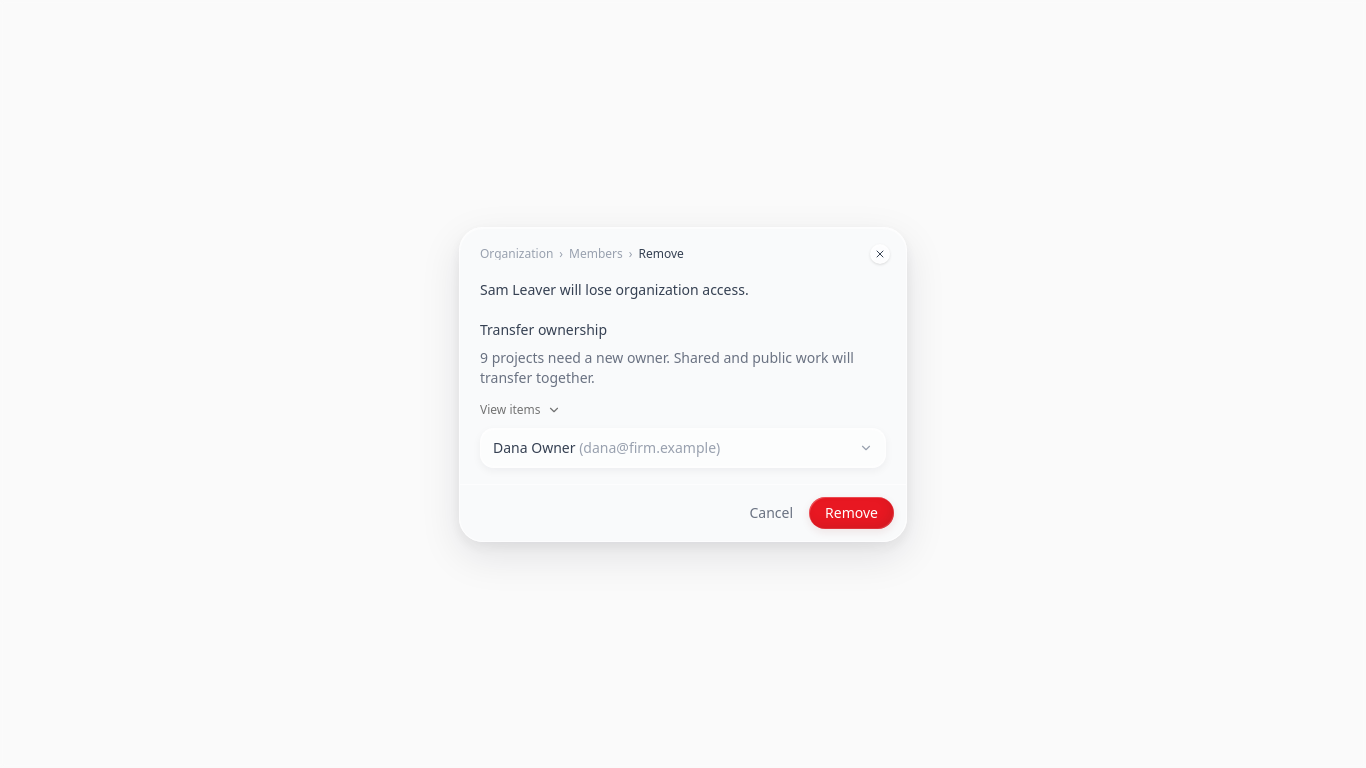
Test case: a member who alone owns projects and workflows › keeps multiple items collapsed and lets the user inspect the entire list
Check: the text "9 projects need a new owner. Shared and public work will transfer together." is shown, box left=480, top=348, right=886, bottom=388
Check: the text "Matter 1" is not shown
Click the heading "View items": (520, 410) left=480, top=402, right=560, bottom=418
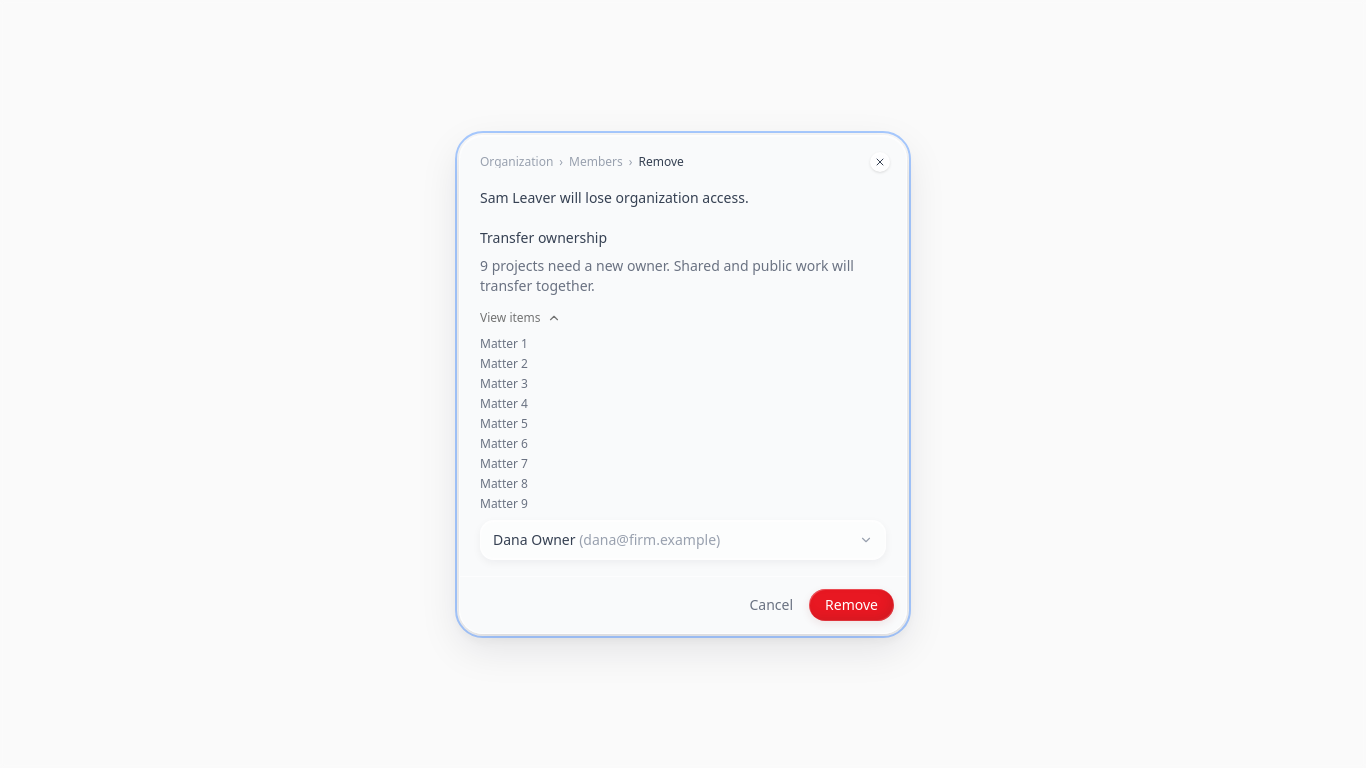
Check: the list item "Matter 1" is shown, box left=480, top=334, right=528, bottom=352
Check: the list item "Matter 9" is shown, box left=480, top=494, right=528, bottom=512
Check: the number of list items is 9
Click the heading "View items": (520, 318) left=480, top=310, right=560, bottom=326
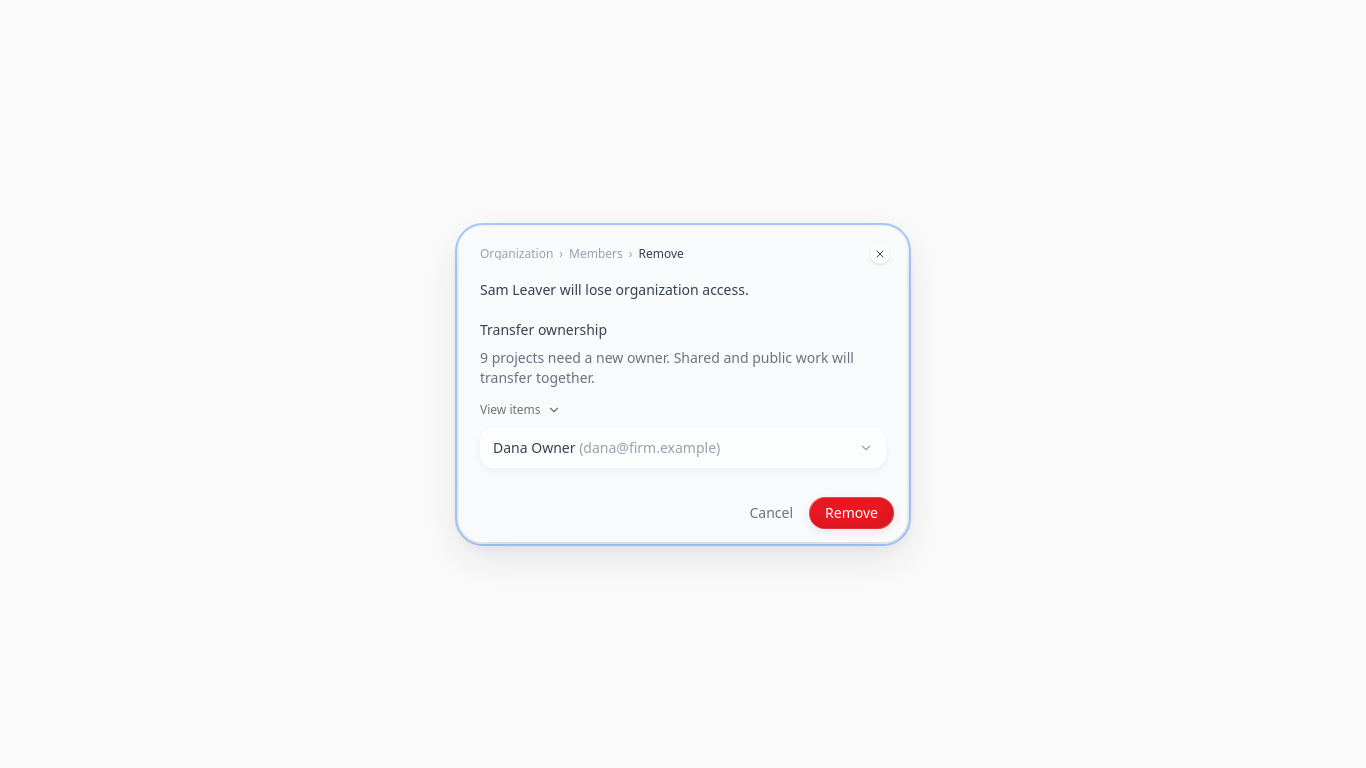
Check: the button named "Remove" is enabled, box left=809, top=496, right=894, bottom=528
Check: the list item "Matter 9" is gone
